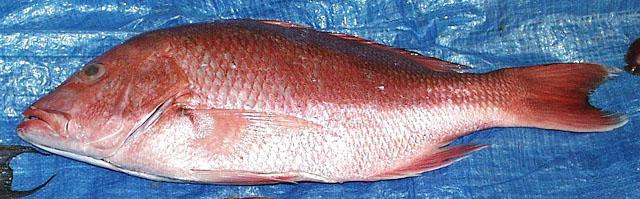Mulut: (2, 89, 70, 162)
Sirip Anal: (354, 130, 506, 192)
Sirip Dada: (168, 96, 342, 165)
Sirip Ekor: (463, 55, 634, 141)
Sirip Perut: (207, 166, 313, 198)
Sirip Punggung: (239, 16, 476, 80)
